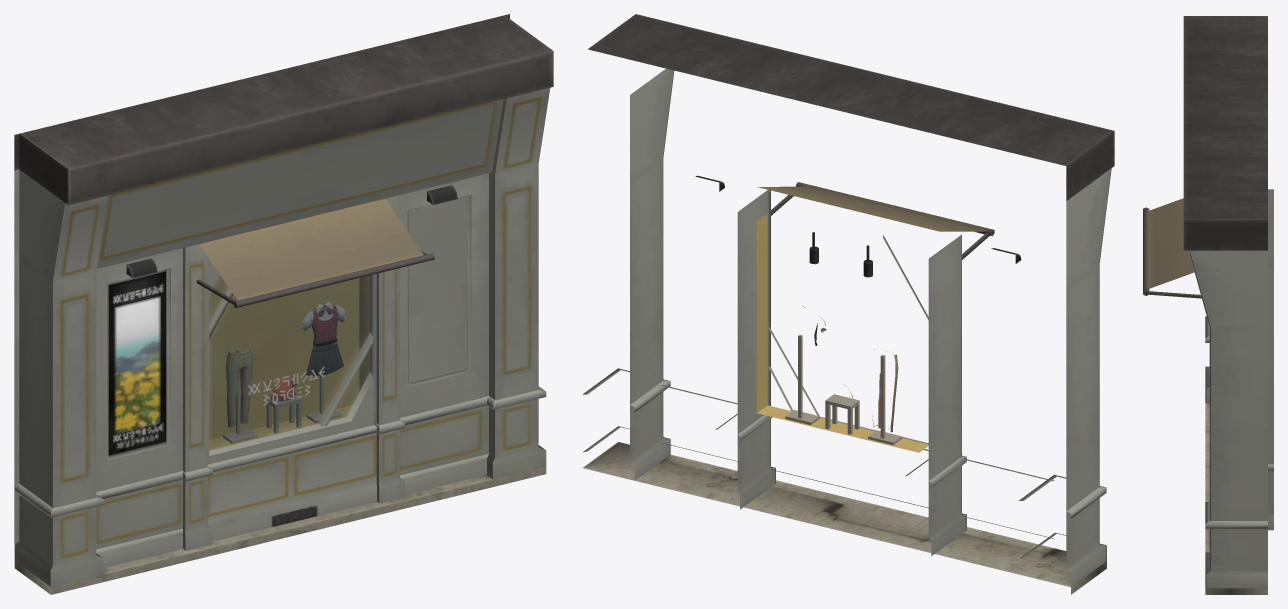
Rendered from t1_b_boutique1_c_wall.glb.
The picture shows the model from 3 angles, left to right: view 1: azimuth 30°, elevation 25°; view 2: azimuth 150°, elevation 25°; view 3: azimuth 270°, elevation 25°; orthographic projection. The views are drawn at different scales.
Parts seen in each view (by area): view 1: nomerge_t1_b_boutique1_c_wall_mesh; view 2: nomerge_t1_b_boutique1_c_wall_mesh; view 3: nomerge_t1_b_boutique1_c_wall_mesh.
Boxes of the visible parts, x1,y1,x2,y2 form: nomerge_t1_b_boutique1_c_wall_mesh: (14, 14, 553, 594); nomerge_t1_b_boutique1_c_wall_mesh: (582, 14, 1114, 594); nomerge_t1_b_boutique1_c_wall_mesh: (1143, 16, 1273, 594).
Size of the model in its own units: 5.5 by 4.6 by 1.46.
3 materials, 3 textured.
